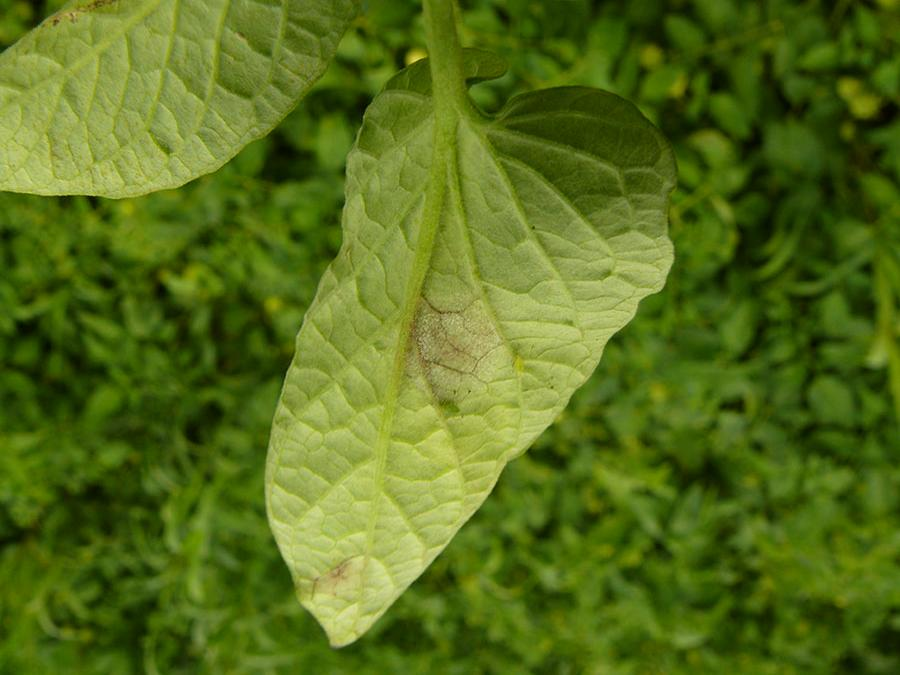Tomato leaf late blight: (253, 38, 704, 659)
